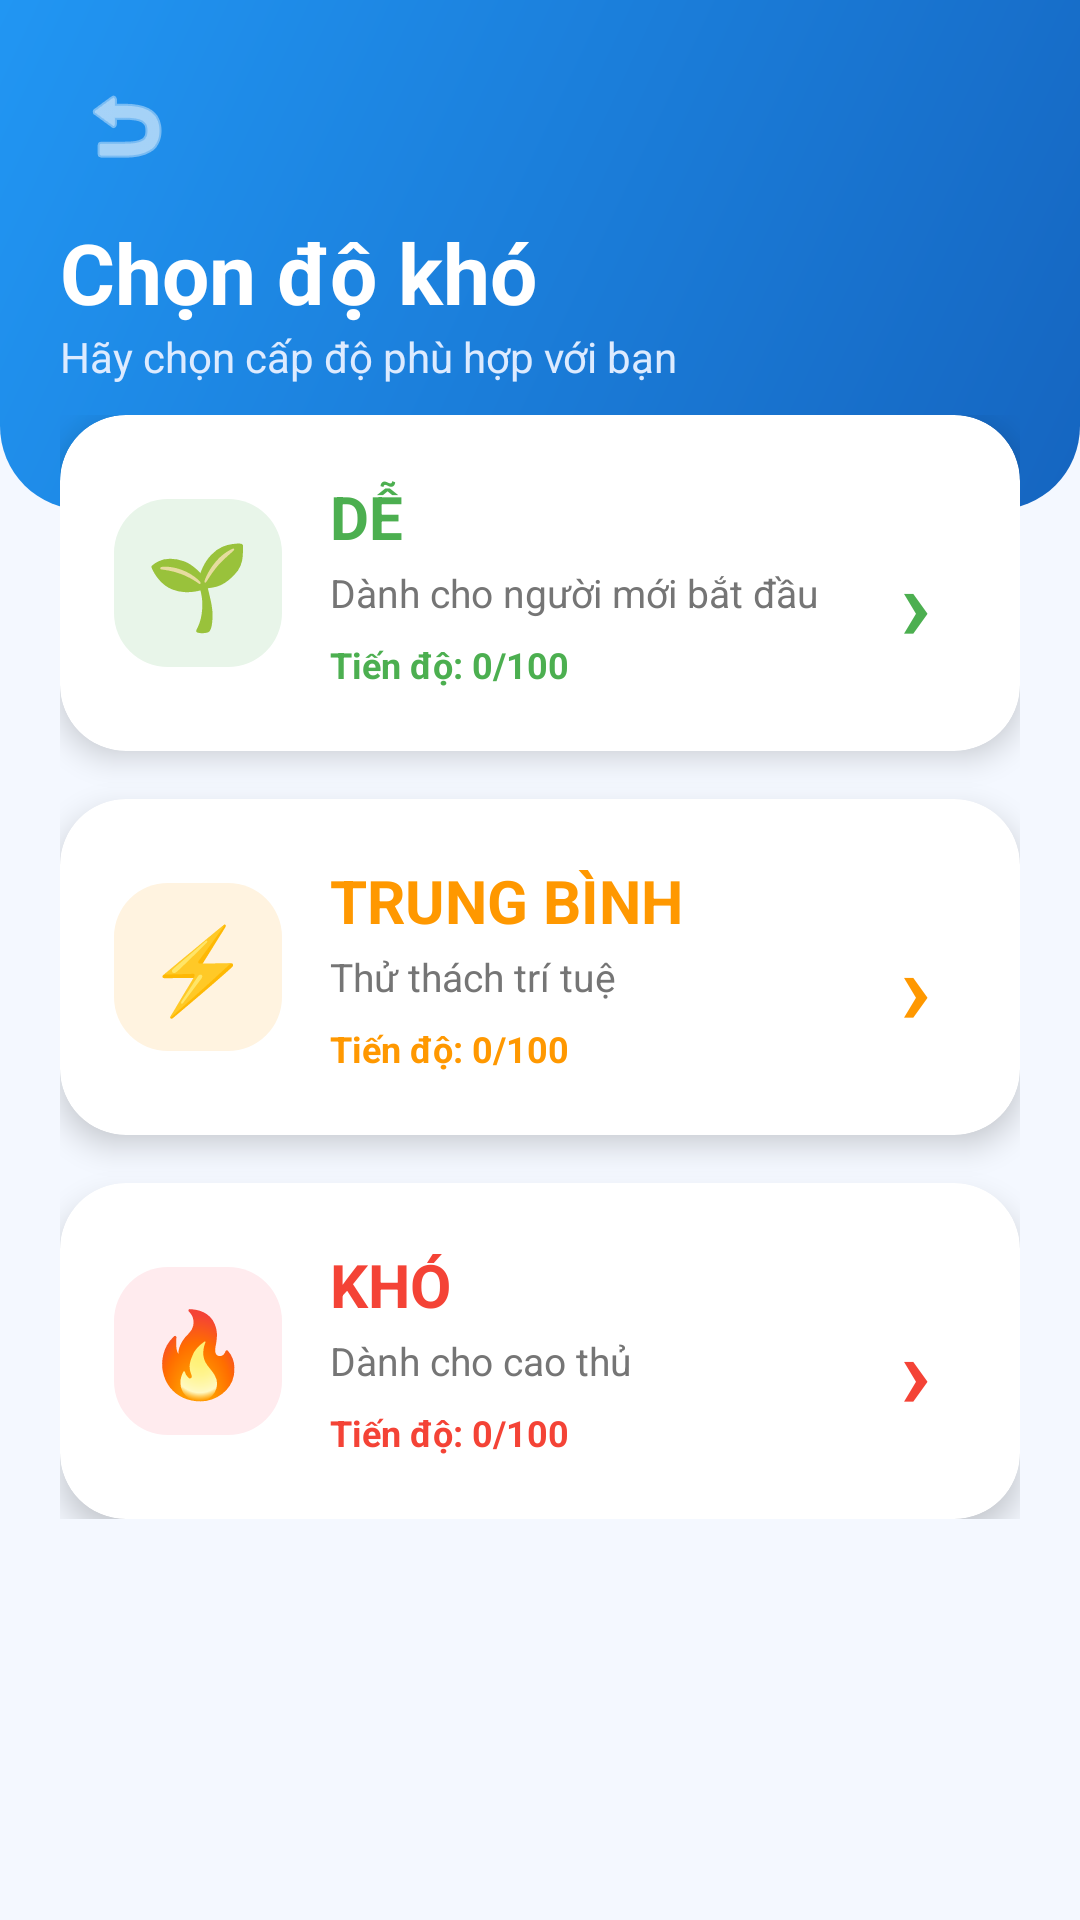

Named icons in this screenshot (1080×1920) and their bounding boxes, (x1, y1, x2, y2):
revert: (93, 95, 162, 158)
